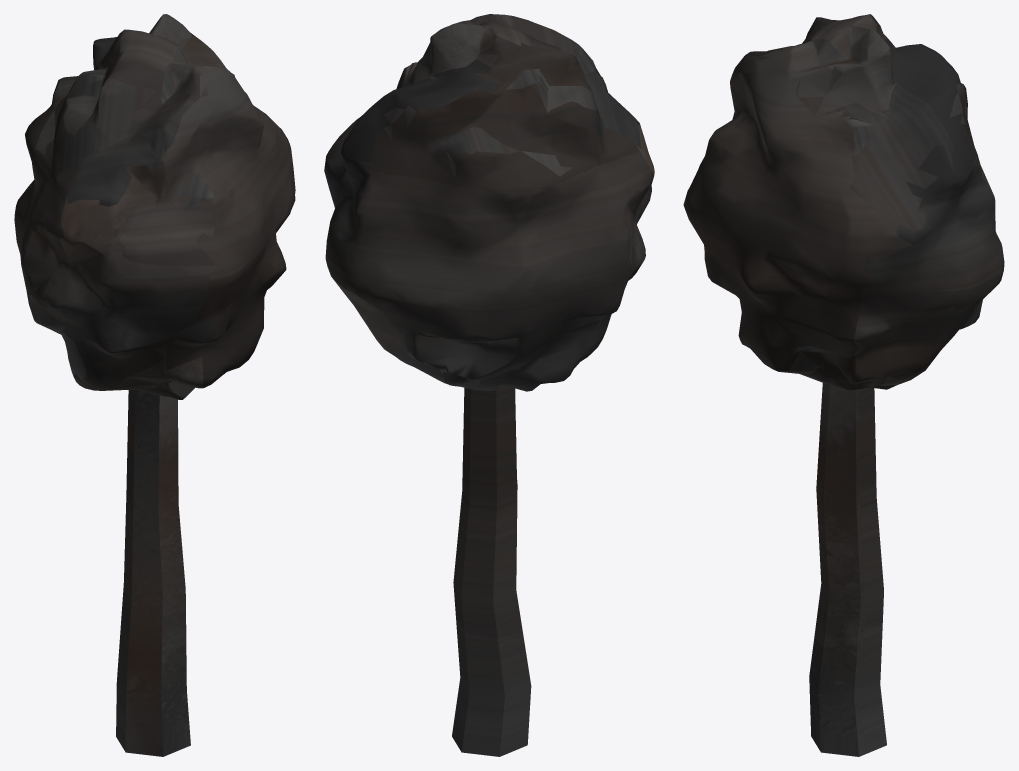
The model's file is tree_2.fbx.
3 renders of one model, left to right at view 1: azimuth 30°, elevation 25°; view 2: azimuth 150°, elevation 25°; view 3: azimuth 270°, elevation 25°, orthographic.
Visible parts, largest first — view 1: tree_2_lowpoly:pCube22; view 2: tree_2_lowpoly:pCube22; view 3: tree_2_lowpoly:pCube22.
Boxes of the visible parts, x1,y1,x2,y2 form: tree_2_lowpoly:pCube22: (14,14,295,756); tree_2_lowpoly:pCube22: (324,14,654,756); tree_2_lowpoly:pCube22: (683,14,1004,756).
Size of the model in its own units: 110 by 271 by 109.
